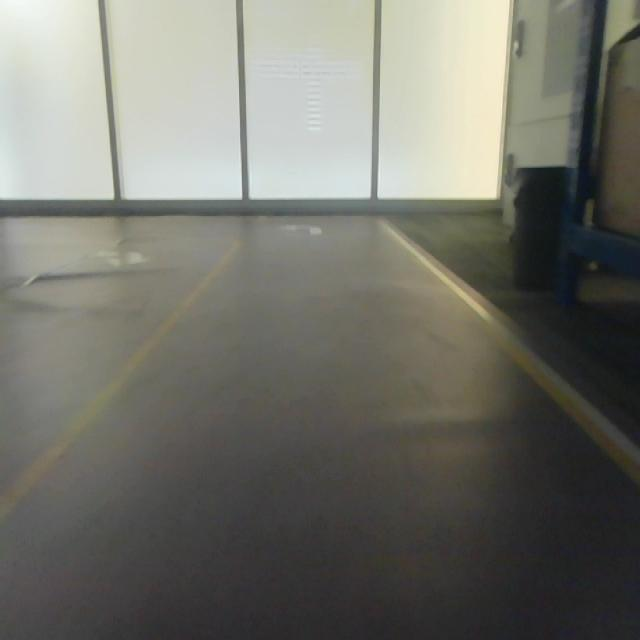left_lane: (0, 234, 241, 529)
right_lane: (380, 222, 639, 486)
